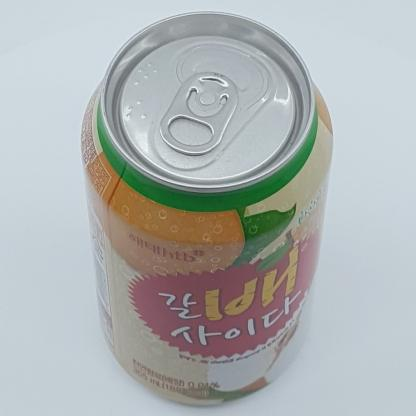-------355ML: (81, 12, 333, 406)
